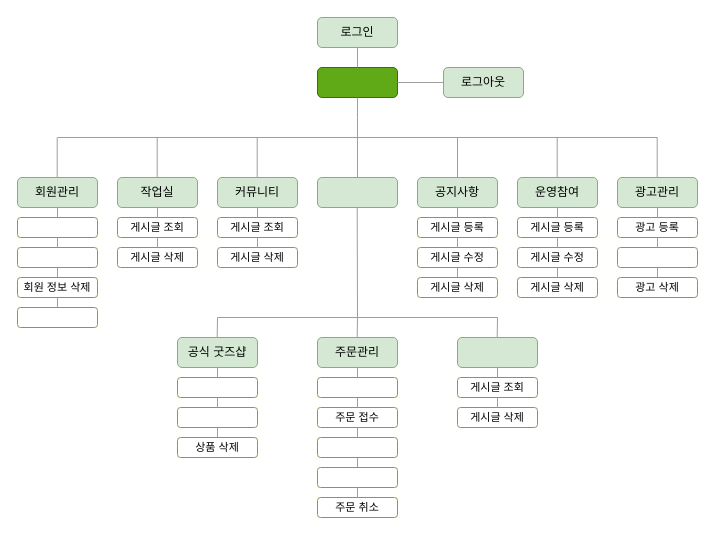
Image size: 715x535. Some labels were removed from this diagram. Here are the shapes that lost their labels. From the top down, the centre of each, then its label:
At pixel 357 82: "메인페이지".
At pixel 357 192: "마켓".
At pixel 57 227: "회원 정보 조회".
At pixel 57 257: "회원 정보 수정".
At pixel 657 257: "광고 수정".
At pixel 57 317: "블랙리스트".
At pixel 497 352: "뮤즈 마켓".
At pixel 217 387: "상품 등록".
At pixel 357 387: "주문 조회".
At pixel 217 417: "상품 수정".
At pixel 357 447: "발송".
At pixel 357 477: "구매 확정".
